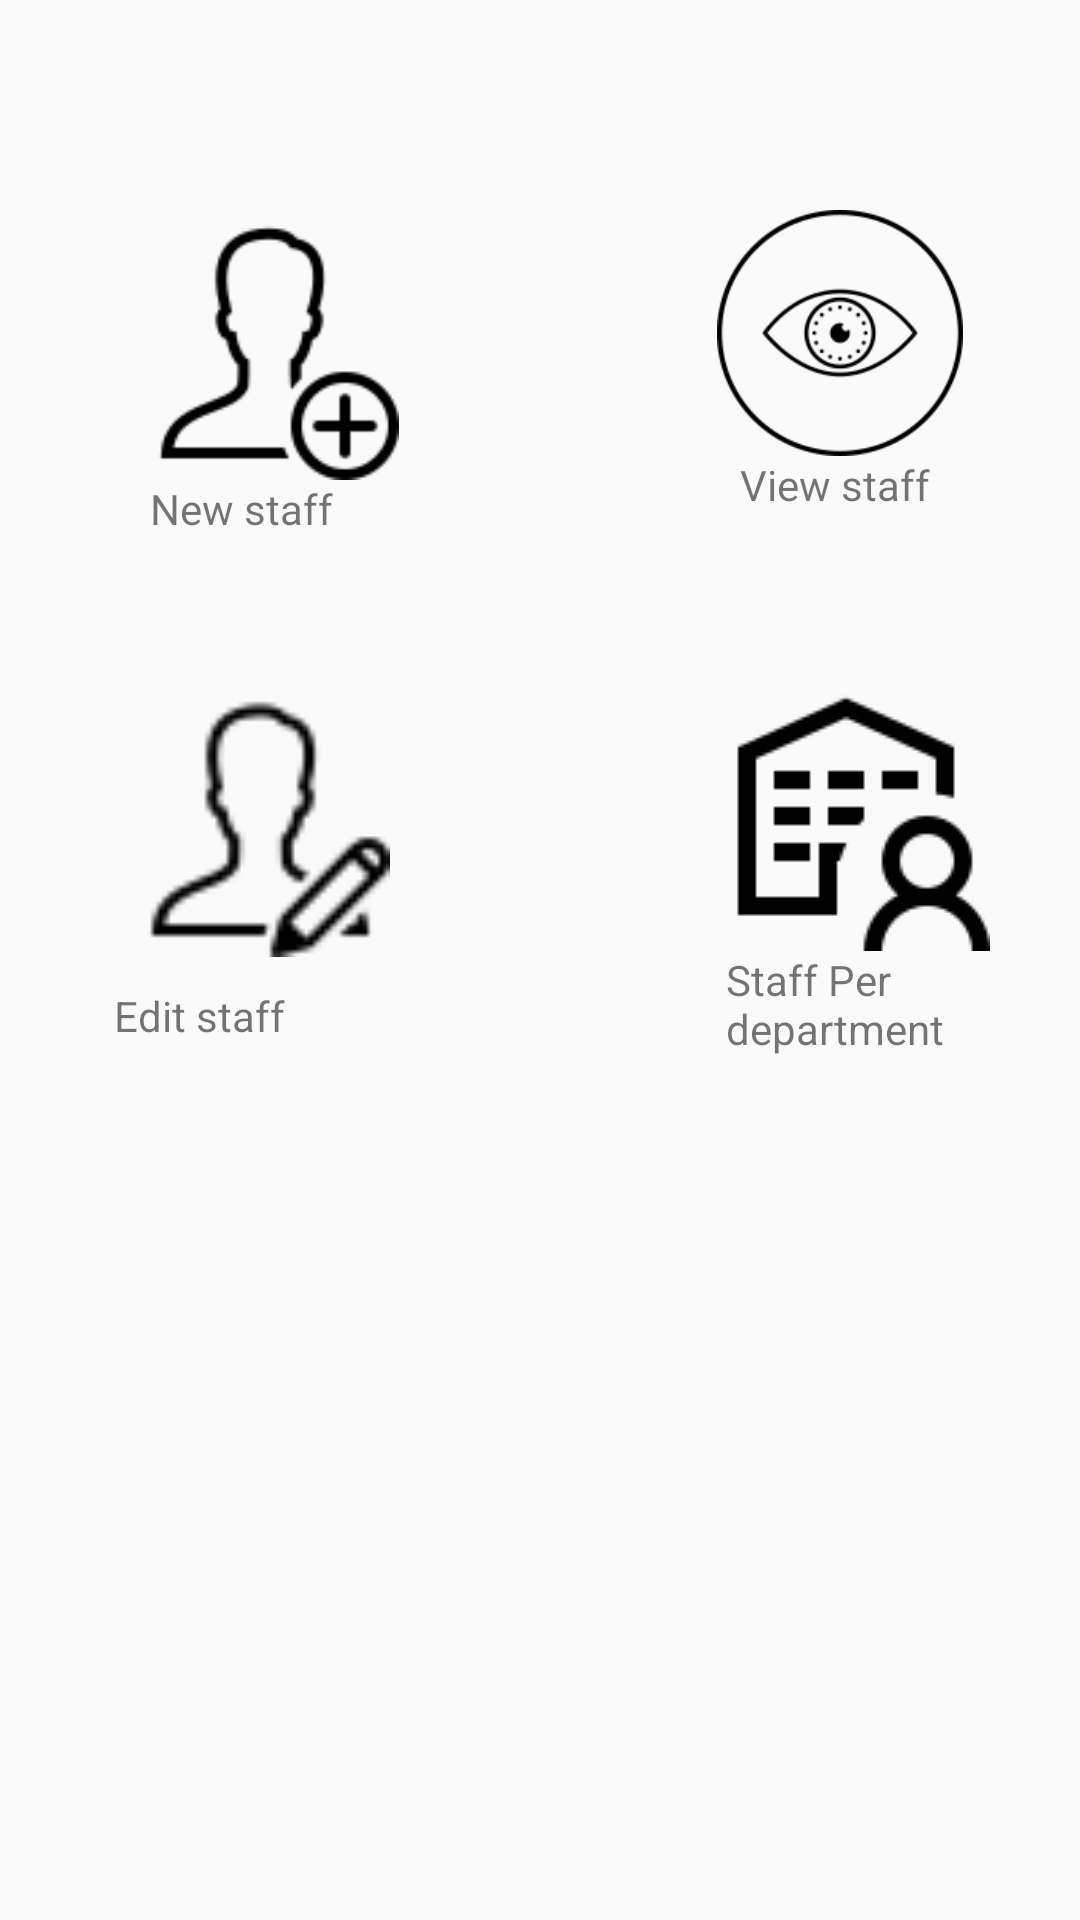

Icon bounding boxes for this 1080 x 1920 phone screenshot, format bbox=(x1, y1, x2, y2):
eye: bbox=(717, 210, 963, 456)
